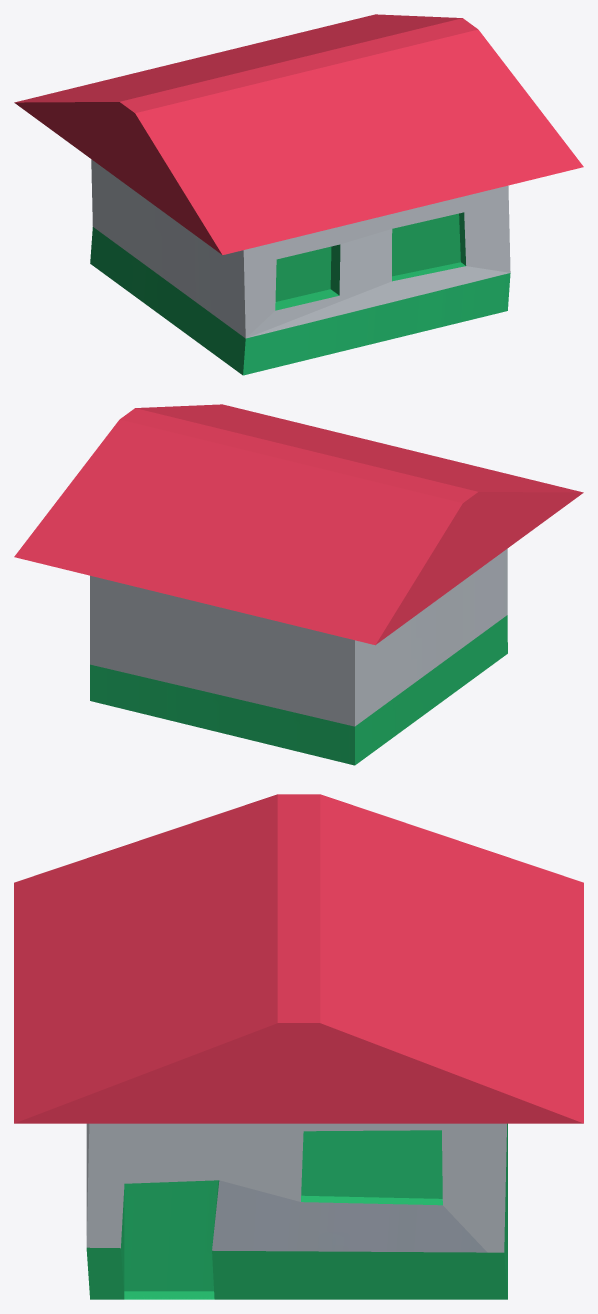
The model's file is casa_7_4.glb.
3 renders of one model, top to bottom at view 1: azimuth 30°, elevation 25°; view 2: azimuth 150°, elevation 25°; view 3: azimuth 270°, elevation 25°, orthographic. The views are drawn at different scales.
Visible parts, largest first — view 1: Cube; view 2: Cube; view 3: Cube.
Part boxes in pixels (<box>): Cube: <box>14,14,583,375</box>; Cube: <box>14,404,583,765</box>; Cube: <box>14,794,583,1299</box>.
Size of what is drawn, in the model's own units: 25.66 by 15.04 by 25.66.
Materials: 1 (1 with a texture image).
